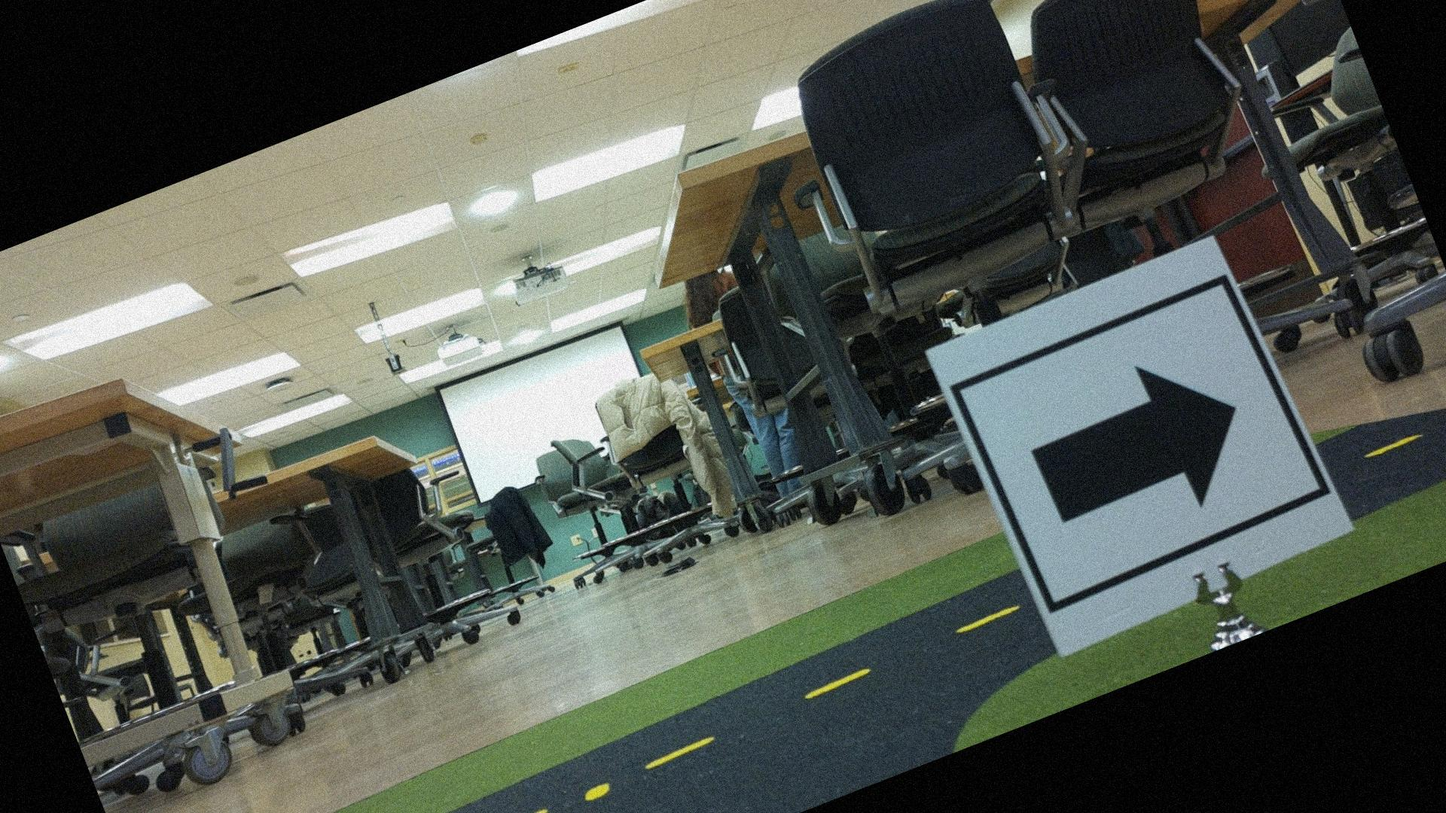turnleft: (935, 239, 1332, 647)
yellowline: (273, 603, 1026, 812)
